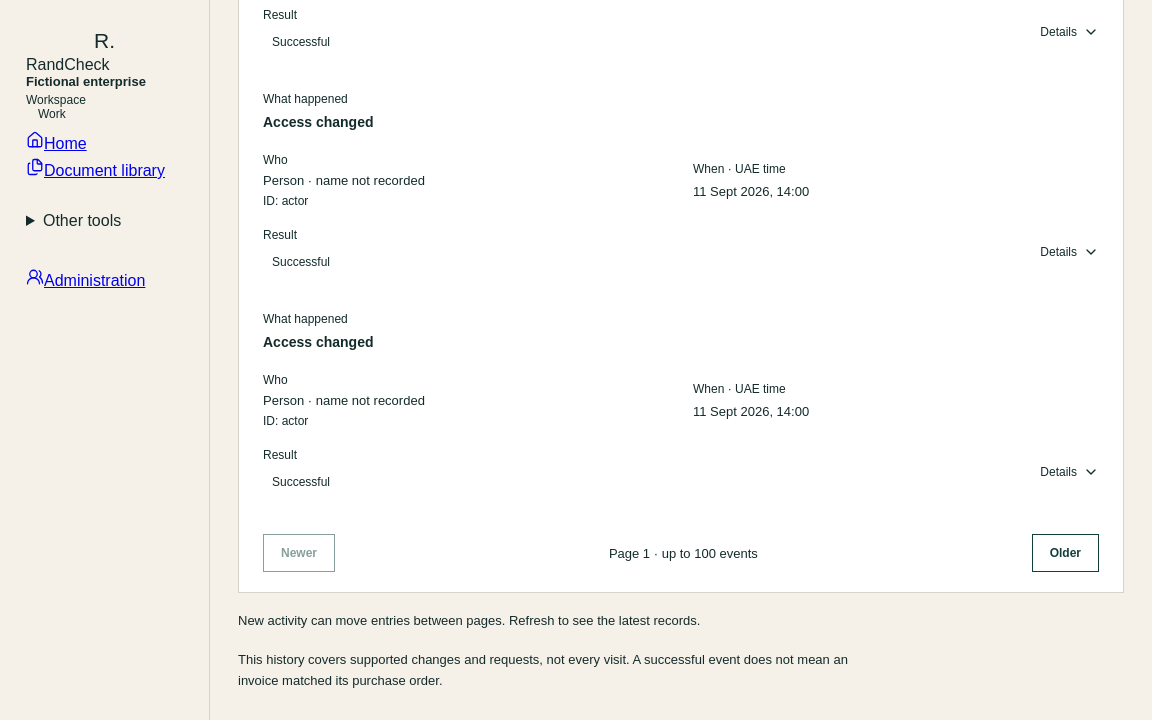
organization access screens › renders audit strings inertly and supports bounded pagination
The image size is (1152, 720).
(page scrolled)
Click the button "Older".
click(1065, 553)  # box x1=1032 y1=534 x2=1099 y2=572
(page scrolled)
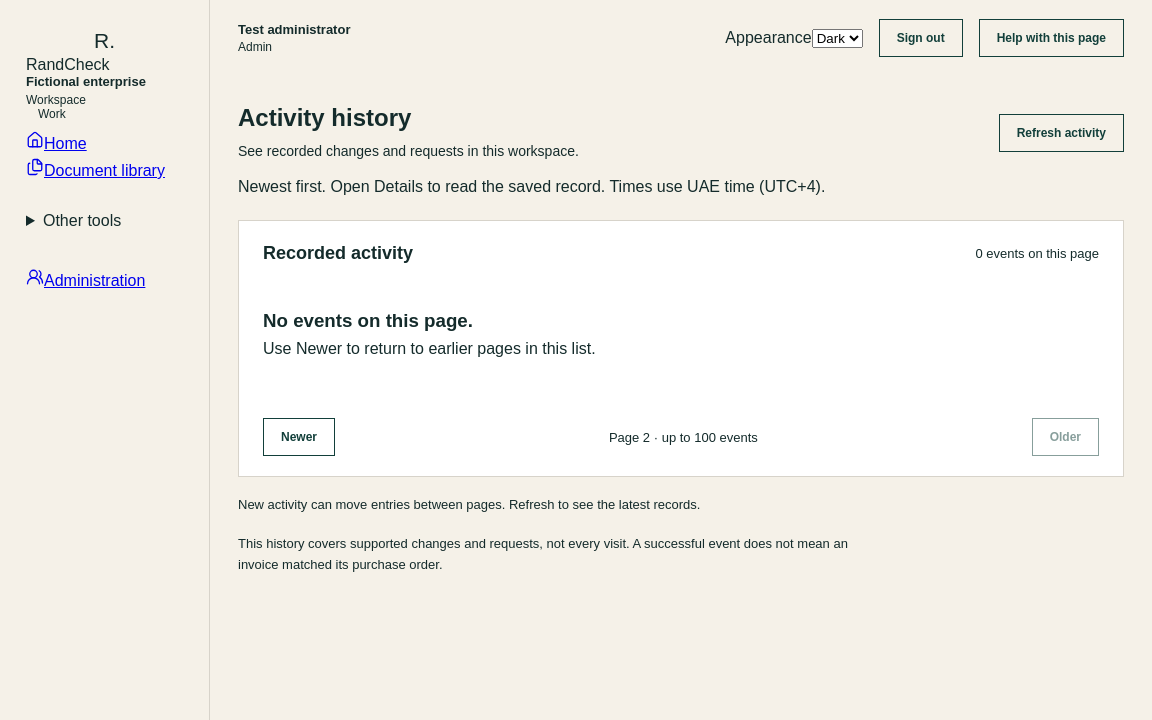
expect the heading "No events on this page." is shown: met, box x1=263 y1=310 x2=473 y2=331
